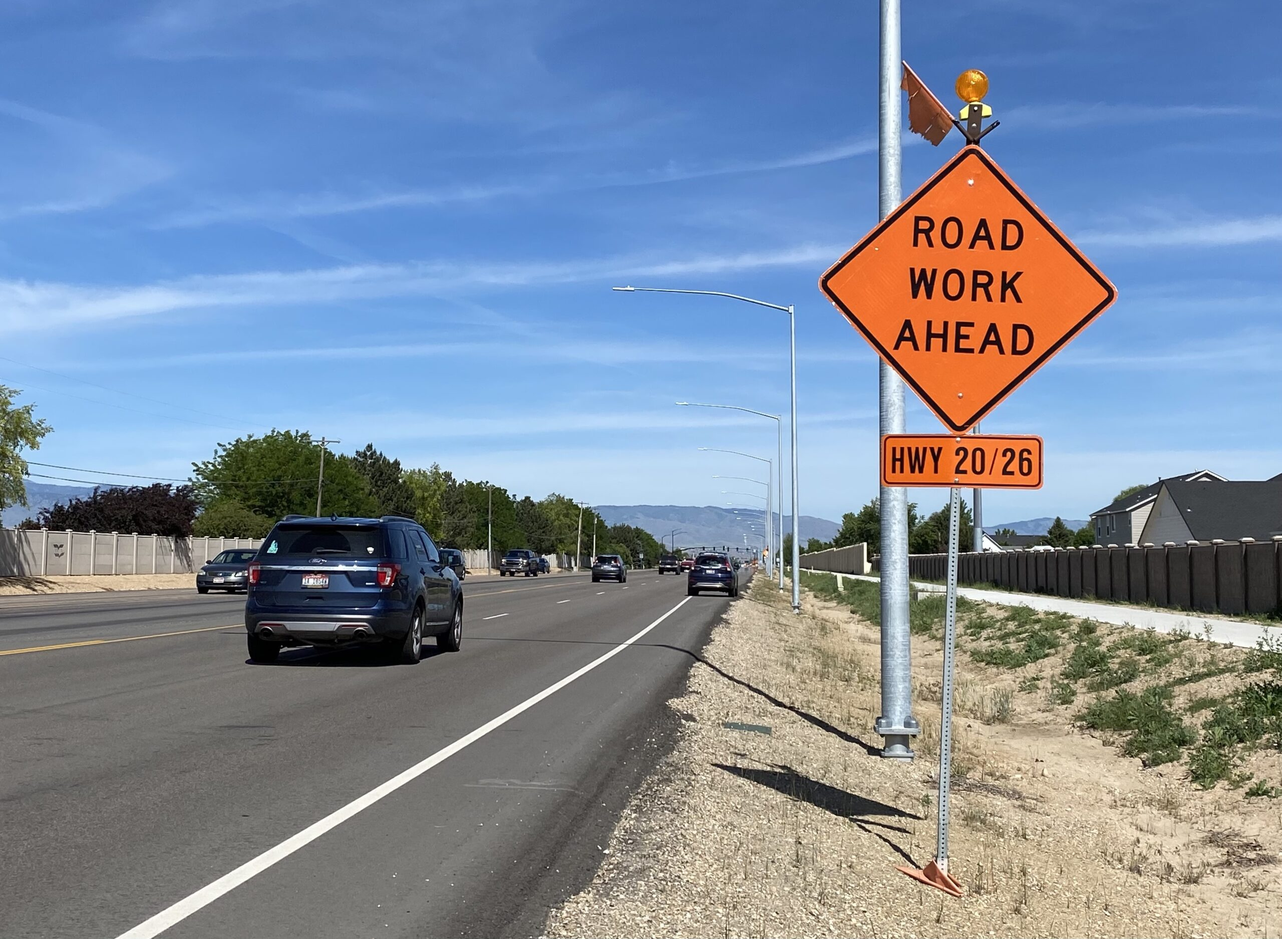Car: (239, 510, 484, 670), (681, 551, 743, 597), (588, 549, 629, 589), (498, 549, 543, 583)
Road_workahead: (818, 139, 1122, 434)
